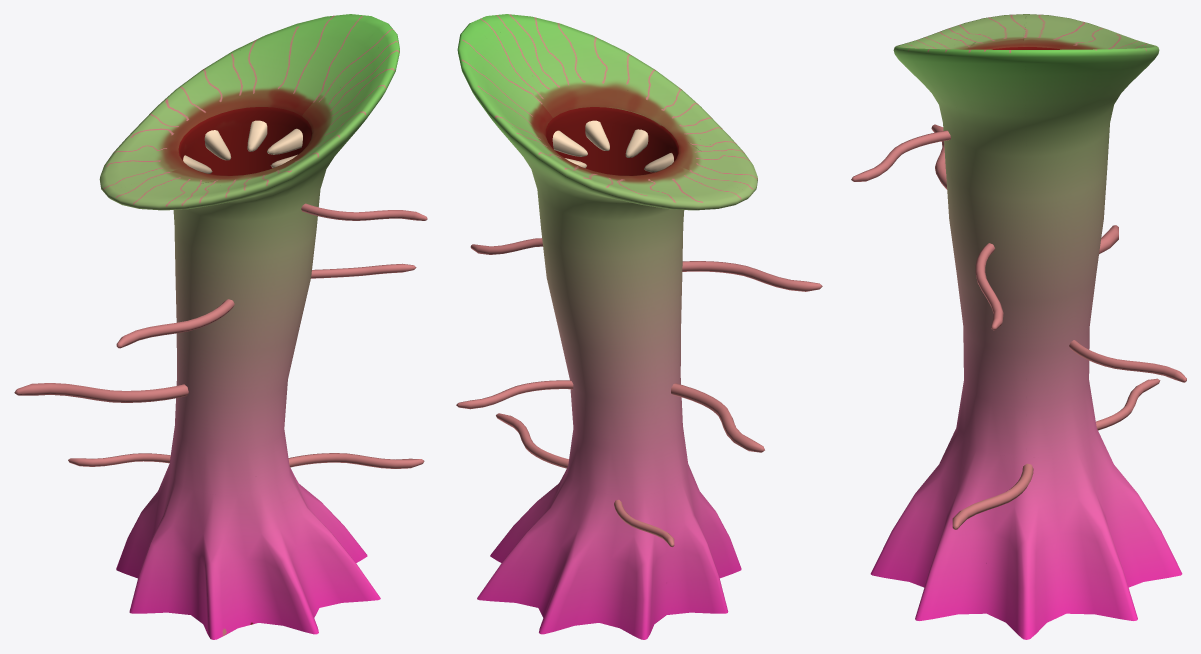
File: Flor_Flesh.fbx
3 renders of one model, left to right at view 1: azimuth 30°, elevation 25°; view 2: azimuth 150°, elevation 25°; view 3: azimuth 270°, elevation 25°, orthographic. The views are drawn at different scales.
Parts seen in each view (by area): view 1: Carnivorous plant, BezierCurve.005, Cylinder.005; view 2: Carnivorous plant, BezierCurve.005, Cylinder.005; view 3: Carnivorous plant, BezierCurve.005.
Part boxes in pixels (x1,y1,x2,y2): Carnivorous plant: (99, 14, 399, 639); BezierCurve.005: (14, 203, 427, 468); Cylinder.005: (183, 120, 302, 173); Carnivorous plant: (457, 14, 757, 639); BezierCurve.005: (456, 238, 822, 547); Cylinder.005: (552, 120, 673, 172); Carnivorous plant: (870, 14, 1182, 639); BezierCurve.005: (851, 124, 1186, 529).
Size of the model in its own units: 550 by 796 by 404.
